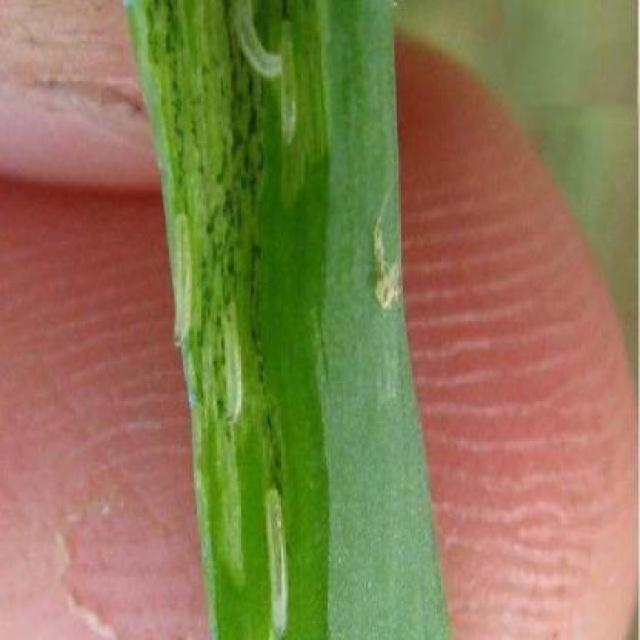whorl-maggot: (261, 481, 292, 640), (226, 0, 283, 85), (217, 294, 245, 434), (272, 12, 300, 152), (171, 206, 195, 357)
